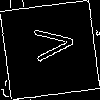V: (25, 24, 75, 64)
